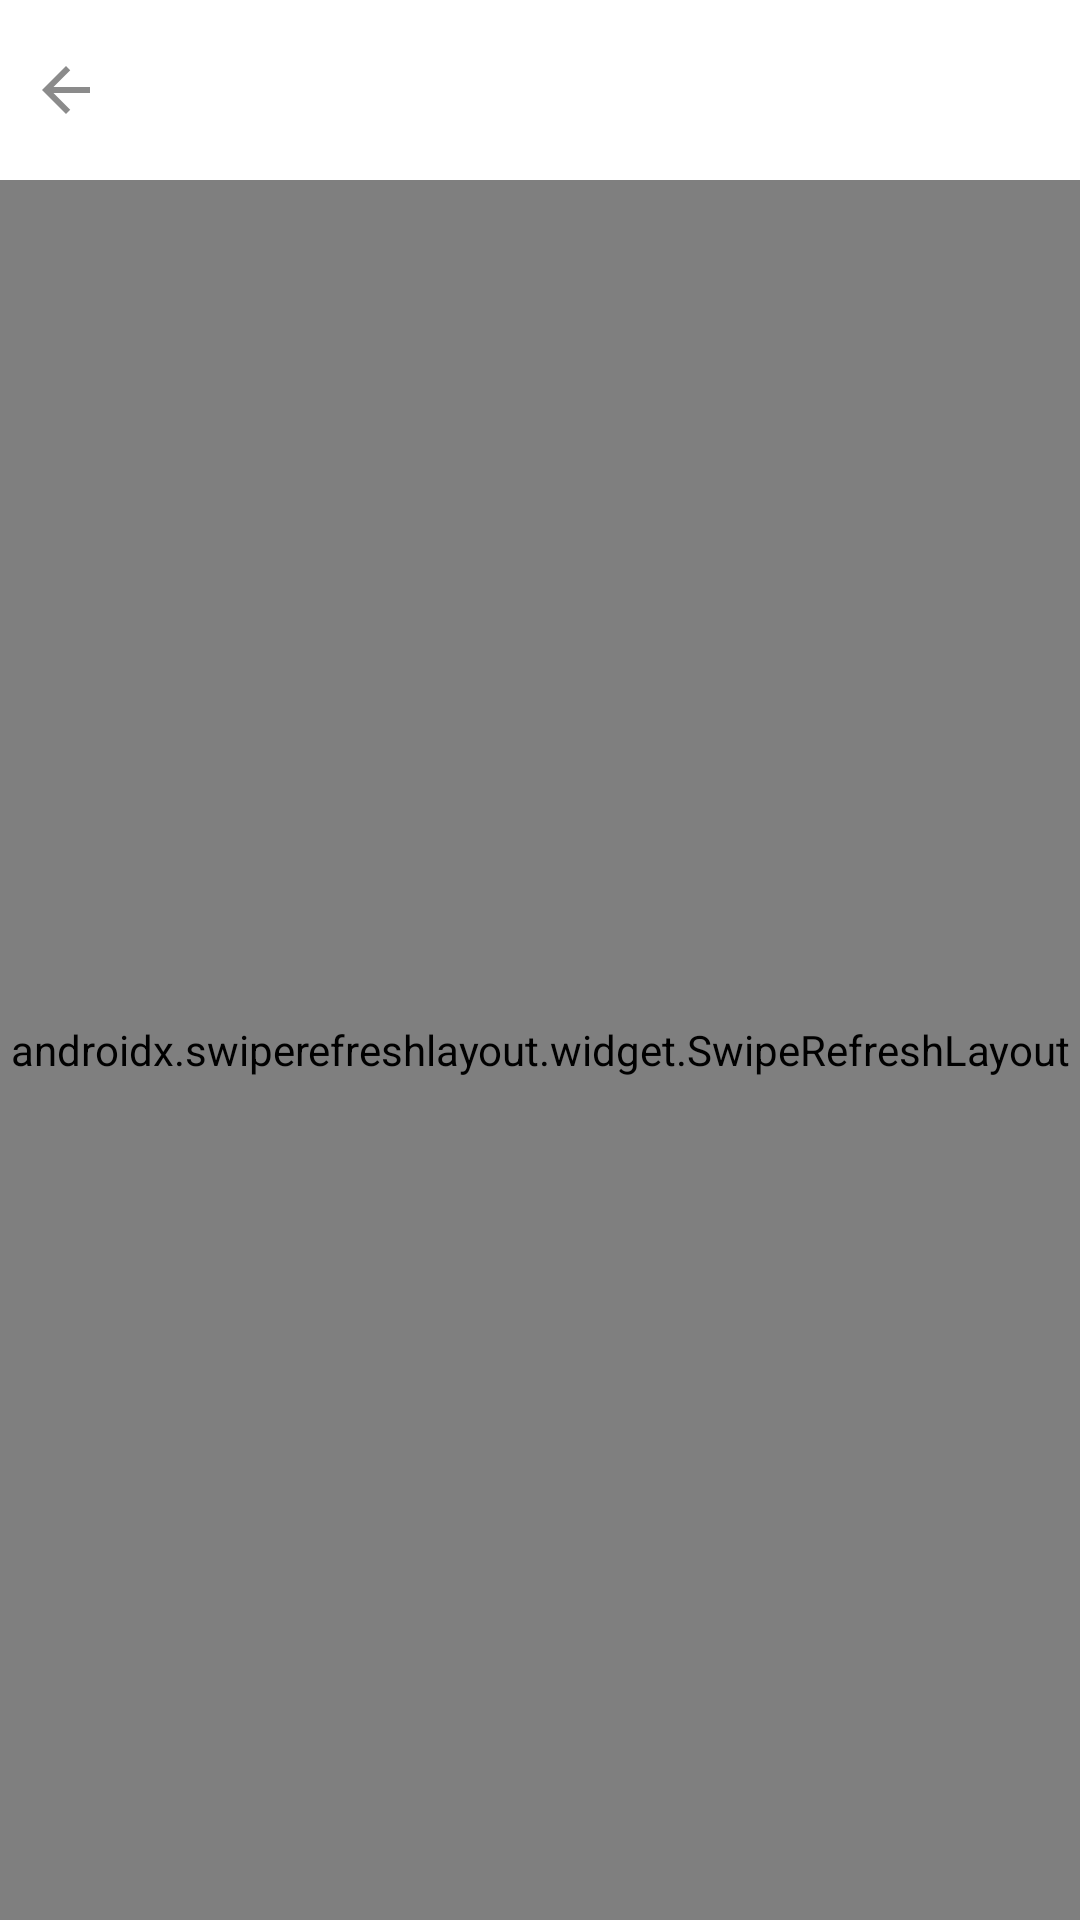

Named icons in this screenshot (1080px×1920px) and their bounding boxes, BBox(x1, y1, x2, y2):
arrow back: BBox(42, 66, 90, 114)
